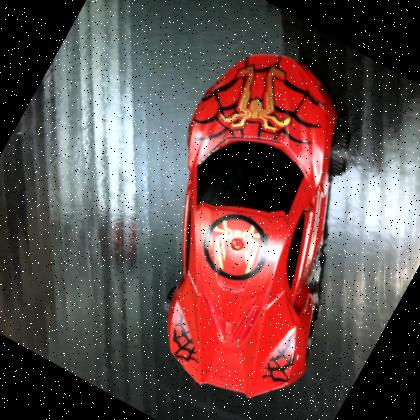Car: (166, 52, 340, 398)
